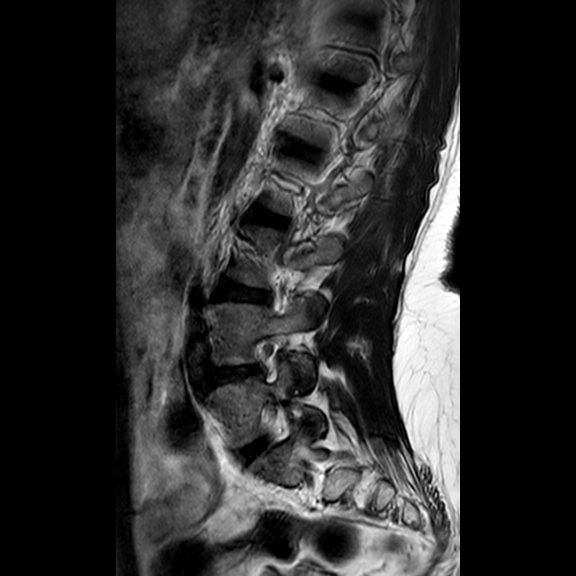LFS0: (245, 319, 292, 391)
